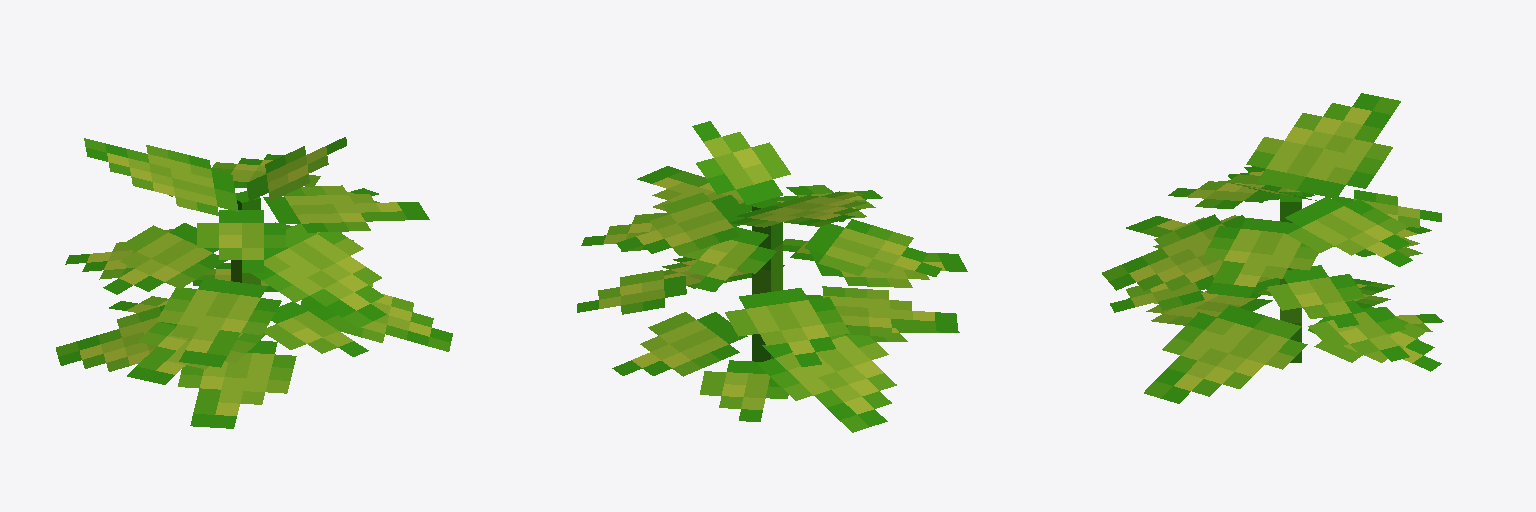
The picture shows the model from 3 angles: view 1: azimuth 30°, elevation 25°; view 2: azimuth 150°, elevation 25°; view 3: azimuth 270°, elevation 25°; orthographic projection.
Visible parts, largest first — view 1: Cube.018; view 2: Cube.018; view 3: Cube.018.
Boxes of the visible parts, x1=… form: Cube.018: x1=56, y1=137, x2=452, y2=428; Cube.018: x1=577, y1=121, x2=967, y2=432; Cube.018: x1=1102, y1=93, x2=1443, y2=403.
Size of the model in its own units: 1.87 by 1.04 by 1.68.
1 materials, 1 textured.